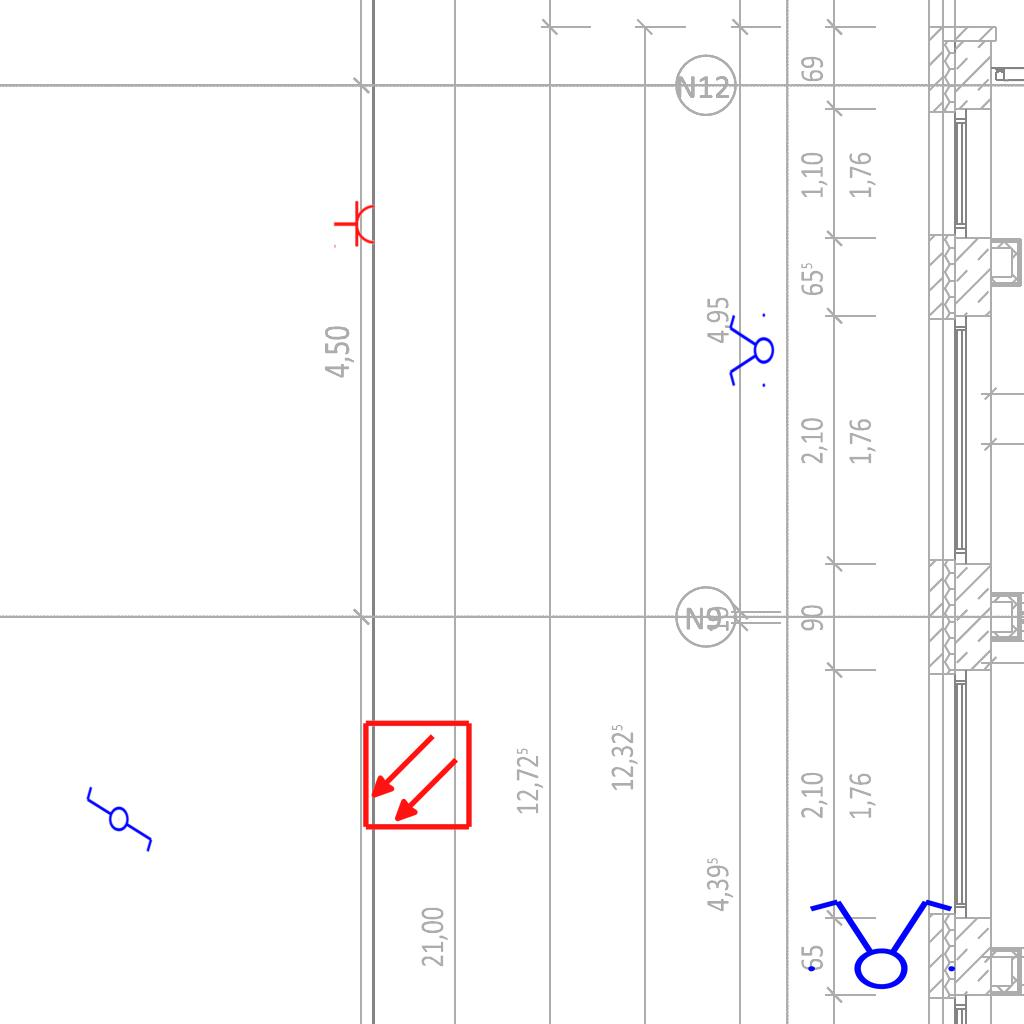RMO_Rauchmelder_optischer: (361, 719, 474, 832)
Schukosteckdose_einfach: (333, 200, 376, 250)
Serienschalter: (796, 895, 964, 991), (727, 309, 775, 393)
Wechselschalter: (84, 776, 156, 854)
